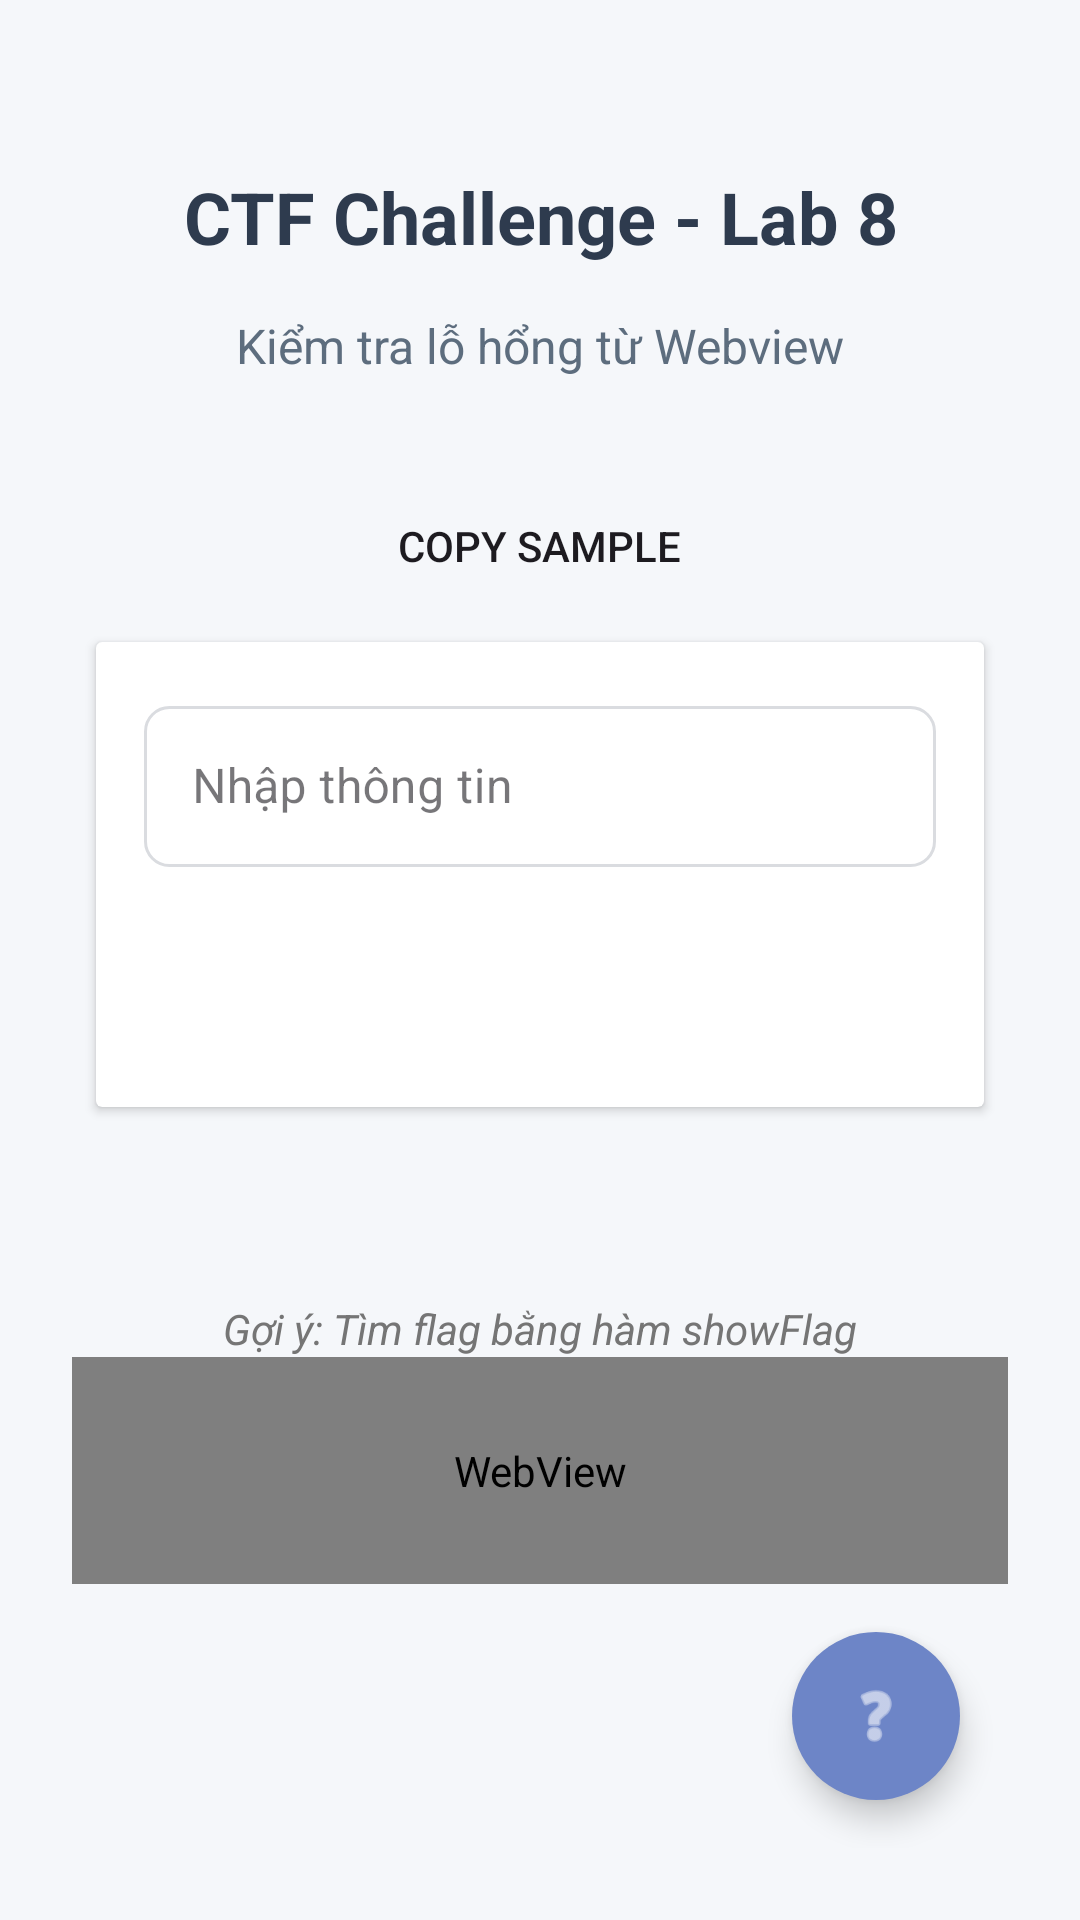

Where to tap for icons on this 1080px×1920px app screen, as point (x, y):
Help: point (876, 1716)
